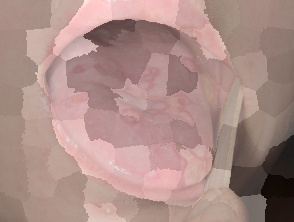SJS-TEN: (89, 63, 202, 130), (169, 135, 224, 190)
